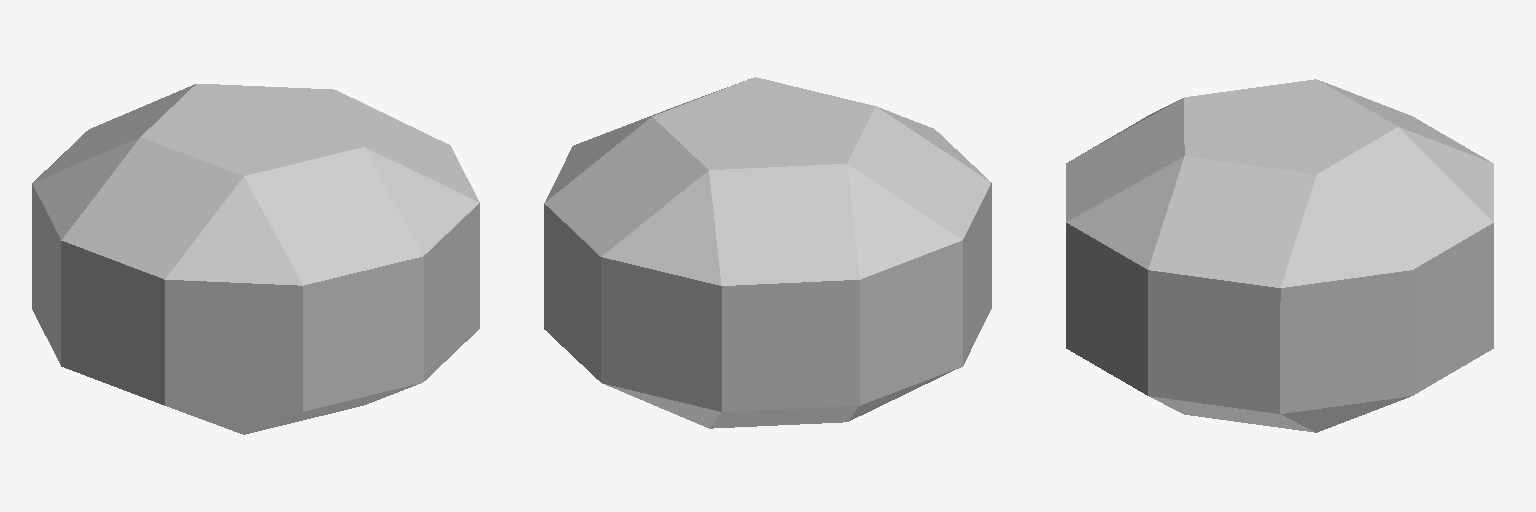
Rendered from ElongatedPentagonalOrthoBiCupola.obj.
3 views of the same model, side by side, from view 1: azimuth 30°, elevation 25°; view 2: azimuth 150°, elevation 25°; view 3: azimuth 270°, elevation 25° (orthographic).
Parts seen in each view (by area): view 1: ElongatedPentagonalOrthoBiCupola; view 2: ElongatedPentagonalOrthoBiCupola; view 3: ElongatedPentagonalOrthoBiCupola.
Boxes of the visible parts, x1=… form: ElongatedPentagonalOrthoBiCupola: x1=32, y1=84, x2=479, y2=434; ElongatedPentagonalOrthoBiCupola: x1=544, y1=77, x2=991, y2=428; ElongatedPentagonalOrthoBiCupola: x1=1066, y1=79, x2=1493, y2=432.
Bounding box in the file's own units: 2.43 × 1.54 × 2.31.